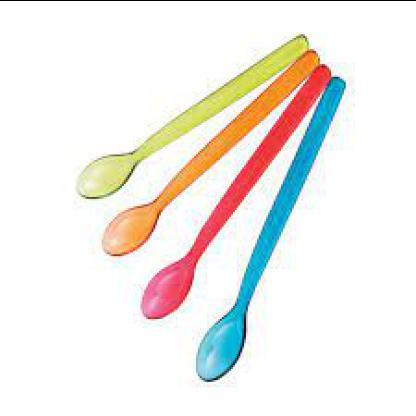Others: (74, 31, 350, 379)
